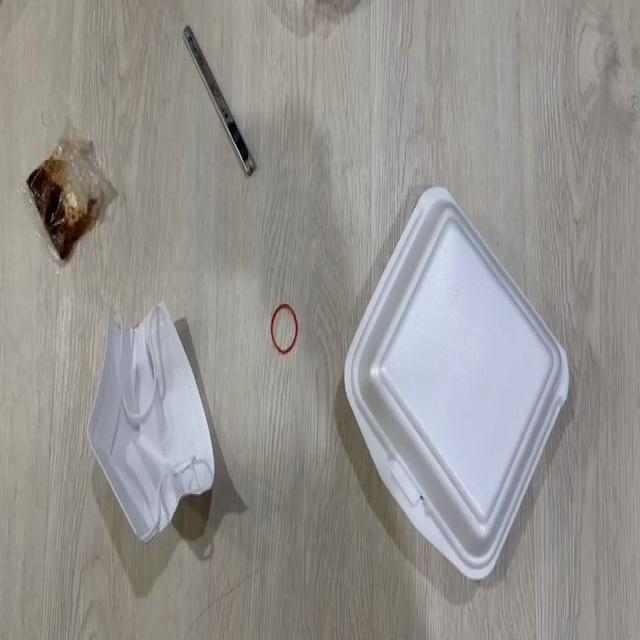Anorganik: (322, 183, 572, 581), (171, 19, 270, 183), (267, 299, 306, 359)
B3: (66, 292, 226, 550), (10, 114, 103, 268)
